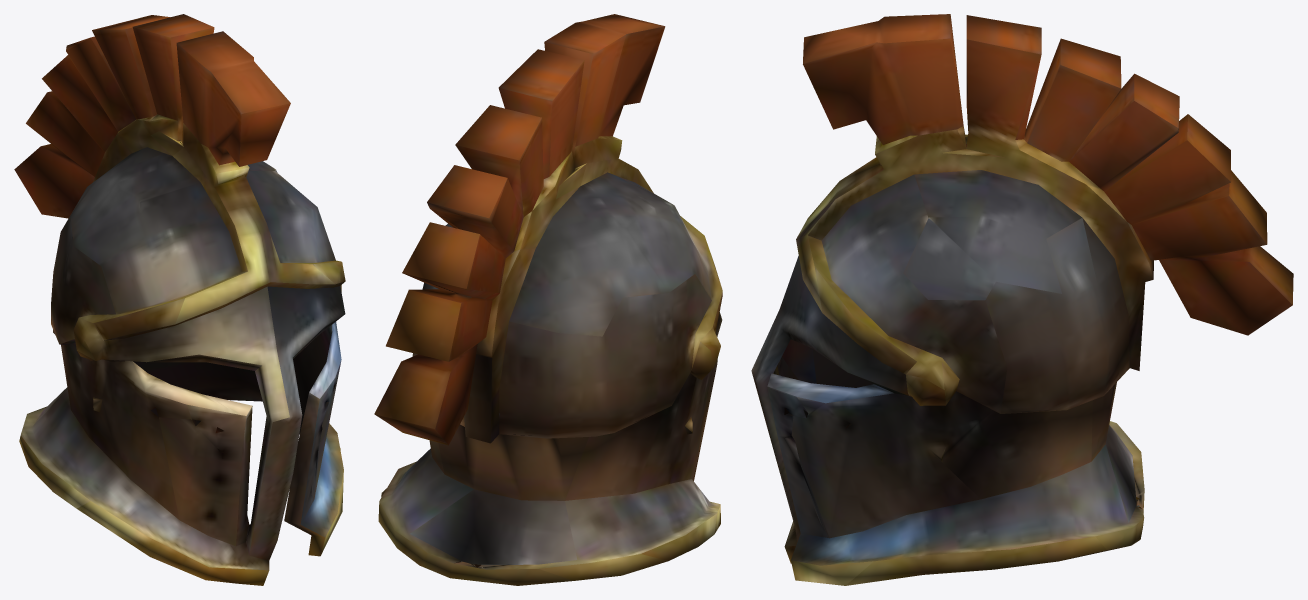
The model's file is lg-war-helmet.glb.
3 views of the same model, side by side, from view 1: azimuth 30°, elevation 25°; view 2: azimuth 150°, elevation 25°; view 3: azimuth 270°, elevation 25° (orthographic). The views are drawn at different scales.
Parts seen in each view (by area): view 1: geometry_0; view 2: geometry_0; view 3: geometry_0.
Boxes of the visible parts, x1,y1,x2,y2 form: geometry_0: (14,14,345,585); geometry_0: (374,14,722,585); geometry_0: (751,14,1293,585).
Size of the model in its own units: 0.5721 by 1 by 0.9051.
Materials: 1 (1 with a texture image).
